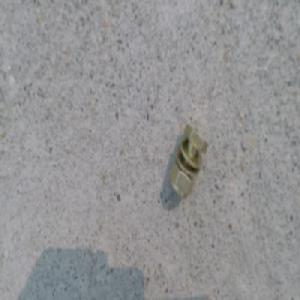BoltNutSet: (167, 126, 206, 199)
